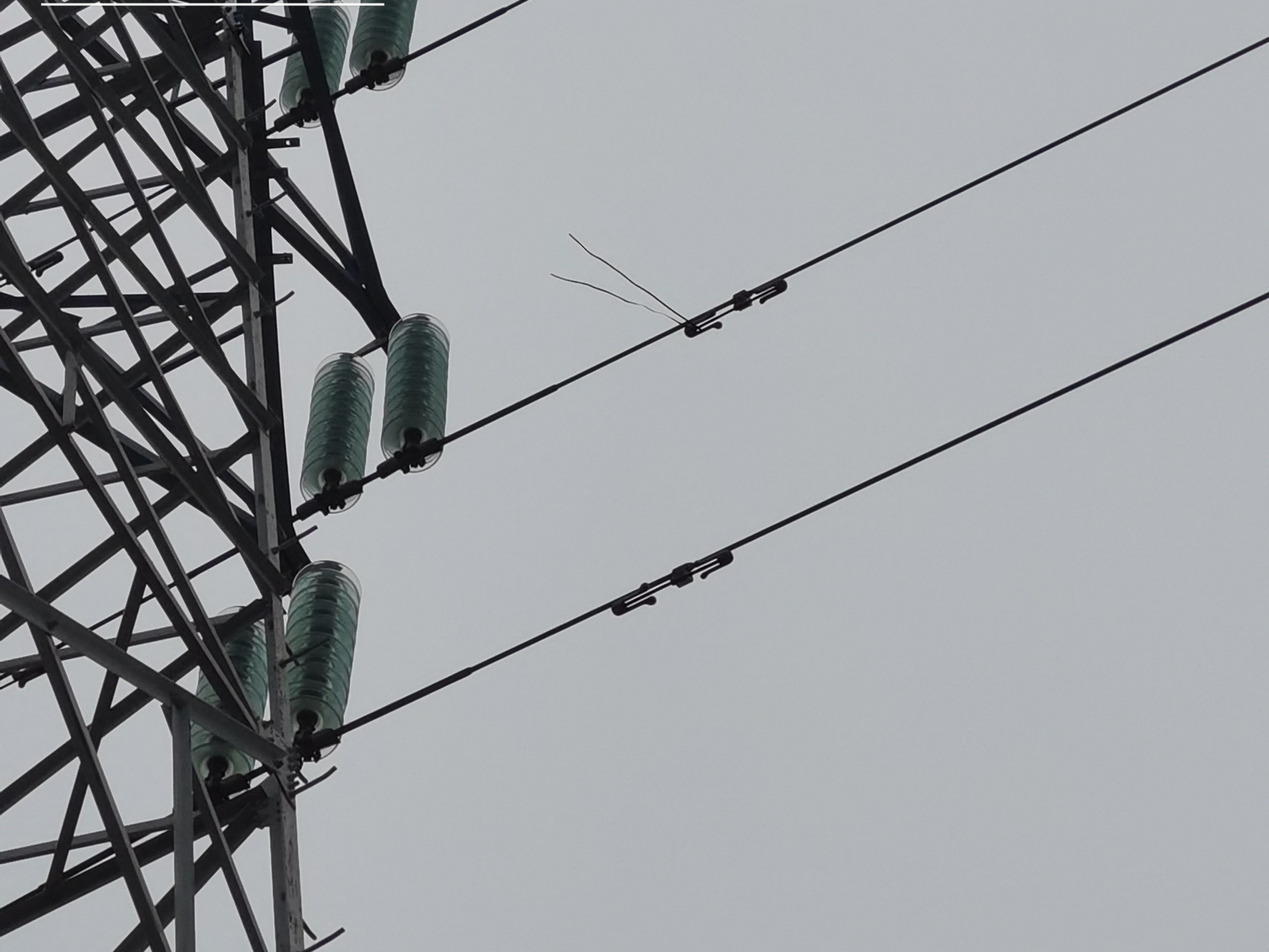异物: (550, 233, 703, 333)
